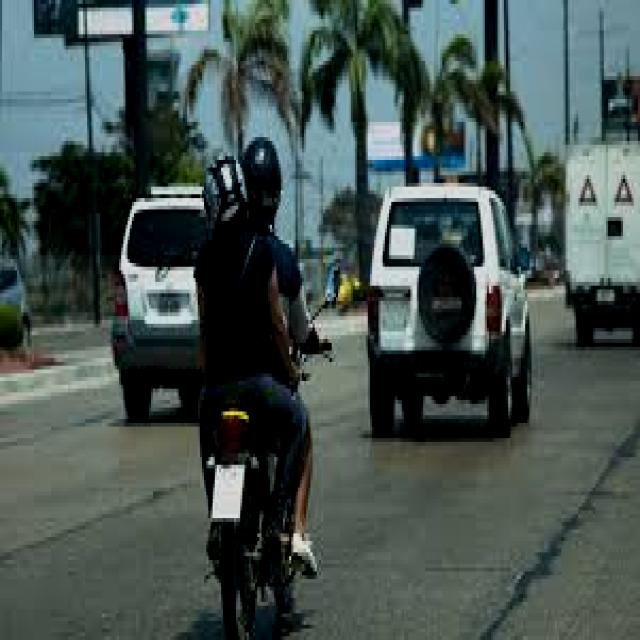MOTORCYCLE: (210, 328, 297, 639)
SUV: (364, 184, 537, 461)
TRUCK: (559, 135, 640, 342)
